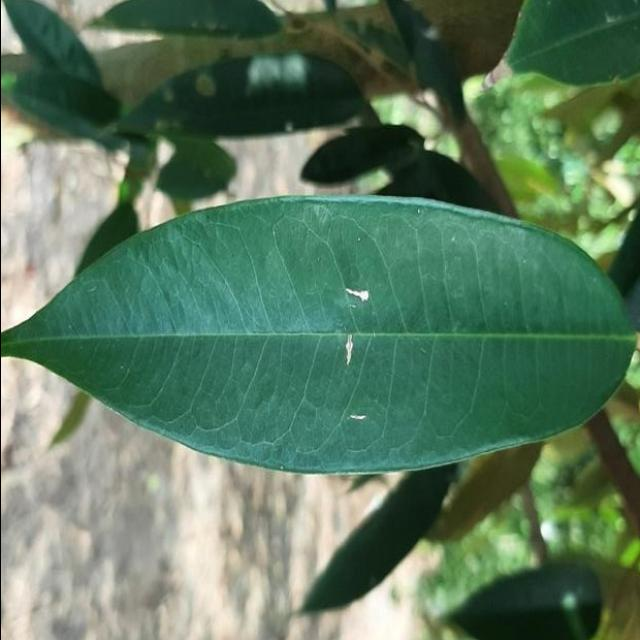No Disease: (0, 187, 634, 487)
